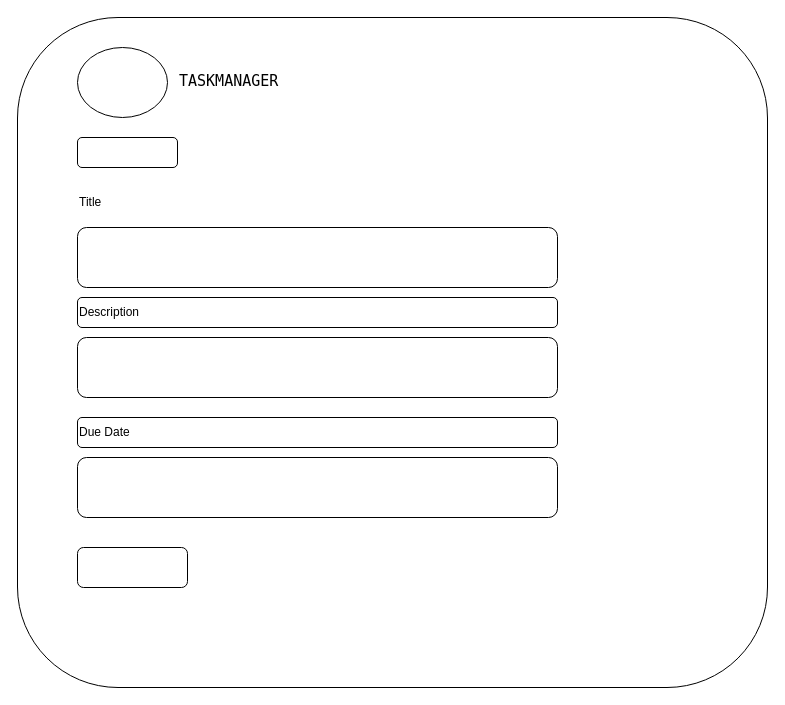
The diagram is 785 pixels wide and 705 high, and some of its shapes have lost their labels. Here are the shapes that lost their labels. From the top down, the centre of each, then its label:
At point 127,152: "Add Task".
At point 132,567: "Confirm".
